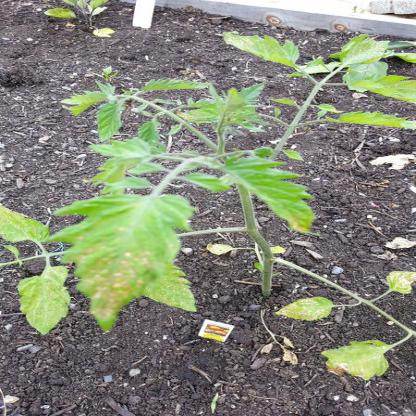tomato leaf bacterial spot: (65, 177, 200, 334), (214, 154, 327, 235), (216, 28, 304, 73), (324, 33, 384, 73)
